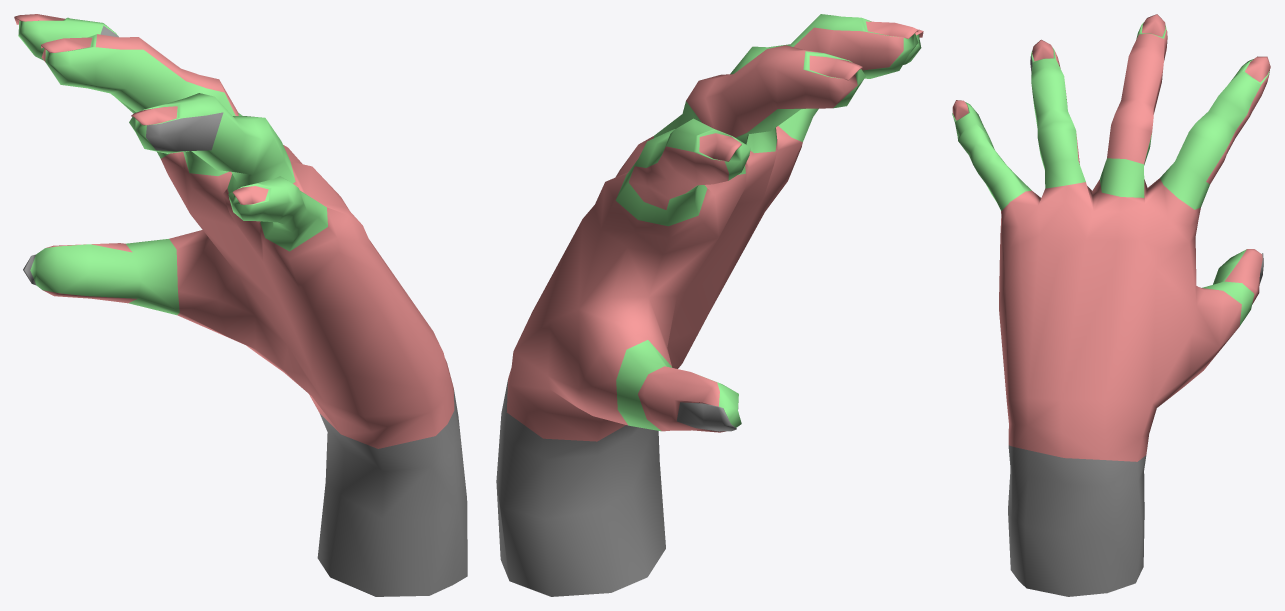
File: hand.gltf
The picture shows the model from 3 angles, left to right: view 1: azimuth 30°, elevation 25°; view 2: azimuth 150°, elevation 25°; view 3: azimuth 270°, elevation 25°; orthographic projection. The views are drawn at different scales.
Parts seen in each view (by area): view 1: hand; view 2: hand; view 3: hand.
Boxes of the visible parts, x1,y1,x2,y2 form: hand: (14,14,467,596); hand: (496,14,923,596); hand: (952,14,1270,596).
Bounding box in the file's own units: 8.89 × 12.93 × 8.42.
